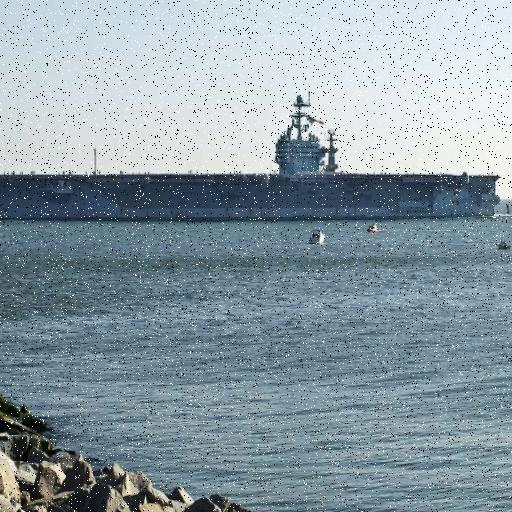Portanaves: (1, 84, 506, 224)
